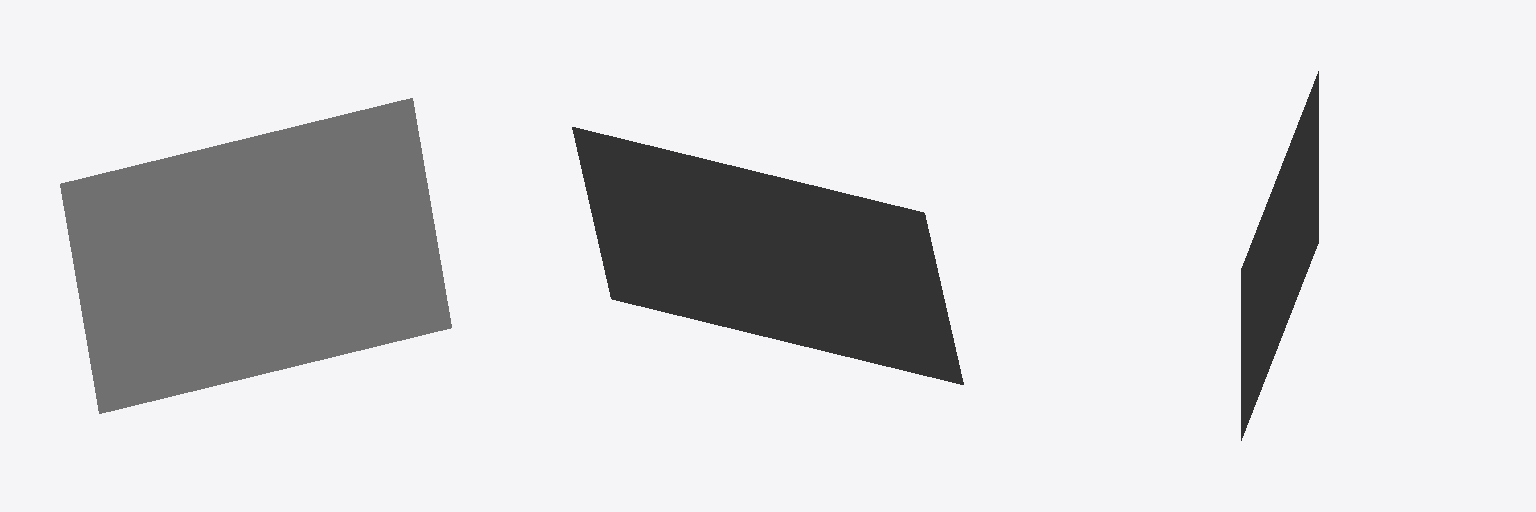
The model's file is DisplayCasing.obj.
The picture shows the model from 3 angles: view 1: azimuth 30°, elevation 25°; view 2: azimuth 150°, elevation 25°; view 3: azimuth 270°, elevation 25°; orthographic projection.
Visible parts, largest first — view 1: pasted__pPlane1 group; view 2: pasted__pPlane1 group; view 3: pasted__pPlane1 group.
Part boxes in pixels (bbox=[...]): pasted__pPlane1 group: bbox=[60, 98, 451, 413]; pasted__pPlane1 group: bbox=[572, 127, 963, 384]; pasted__pPlane1 group: bbox=[1241, 71, 1318, 440].
Size of the model in its own units: 1.17 by 0.6359 by 0.2249.